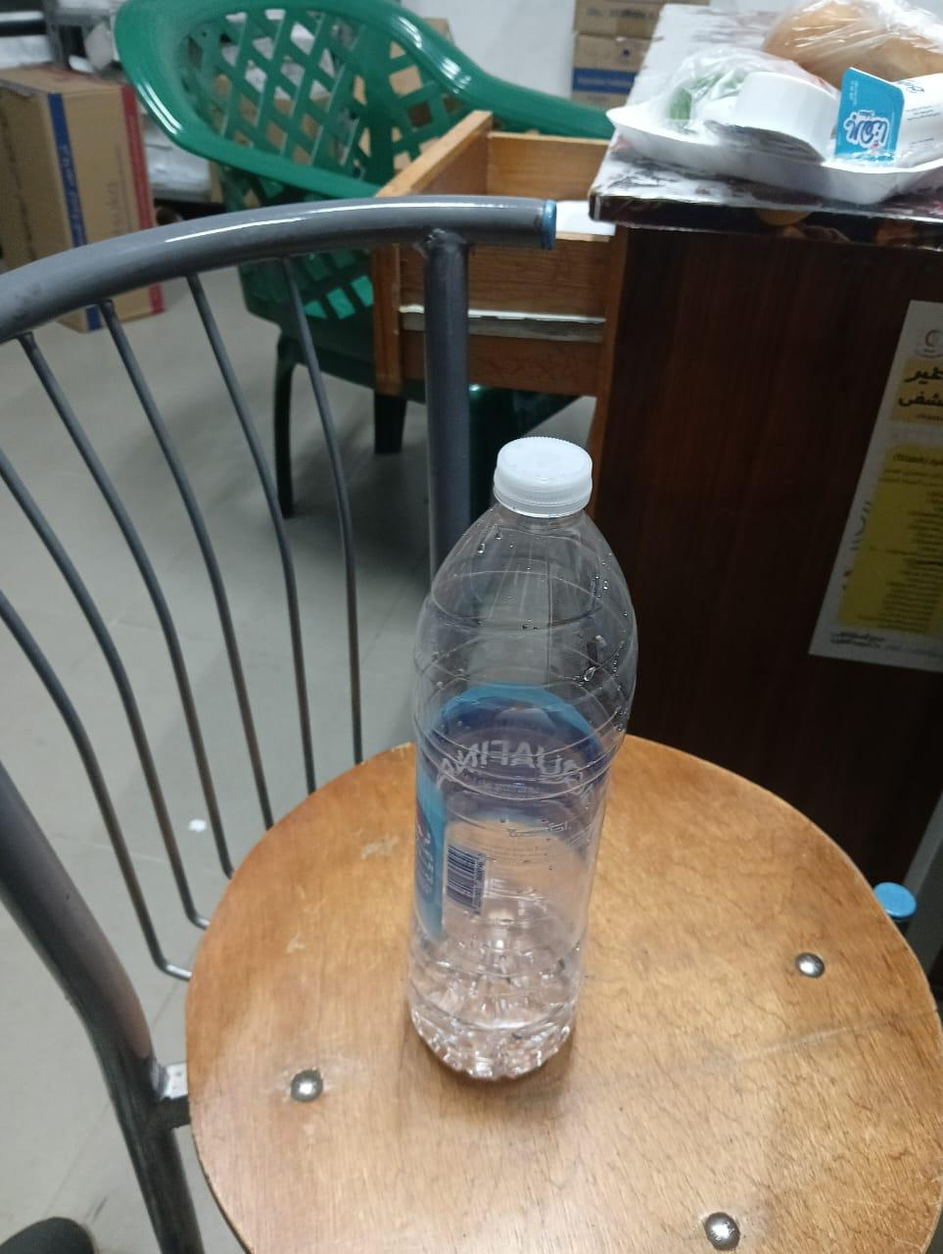Bottle: (409, 437, 637, 1078)
